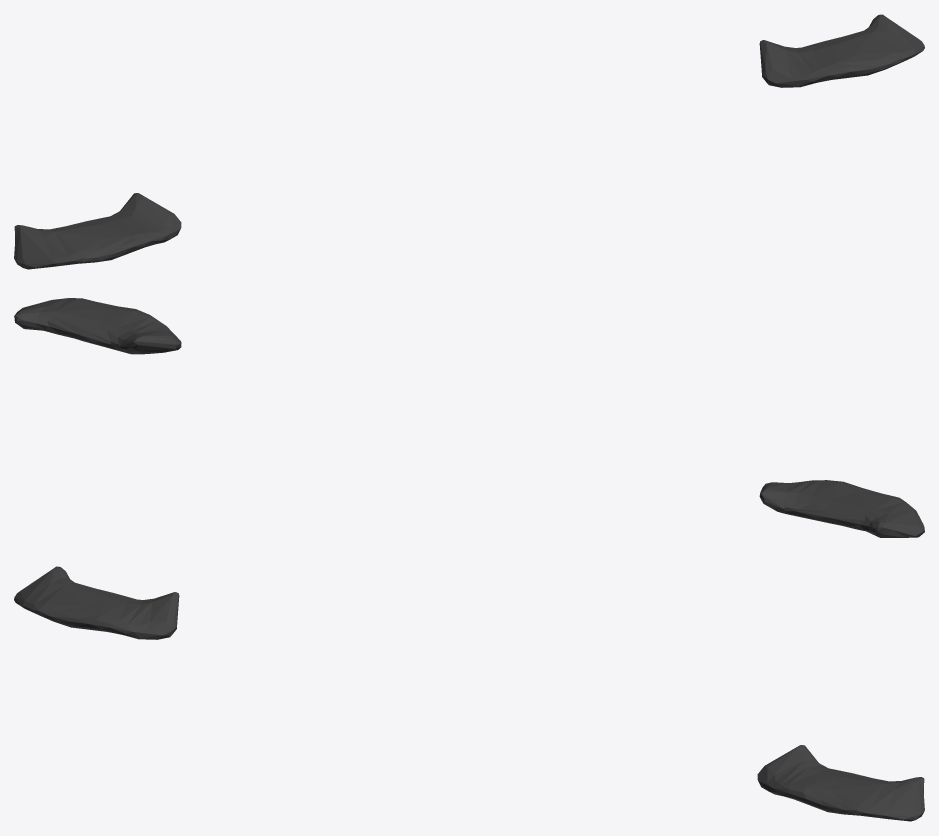
File: lig_impar_distal_sesamoidean_FL.glb
The picture shows the model from 3 angles, top to bottom: view 1: azimuth 30°, elevation 25°; view 2: azimuth 150°, elevation 25°; view 3: azimuth 330°, elevation 25°; orthographic projection.
Visible parts, largest first — view 1: lig_impar_distal_sesamoidean_FL; view 2: lig_impar_distal_sesamoidean_FL; view 3: lig_impar_distal_sesamoidean_FL.
Boxes of the visible parts, x1=… form: lig_impar_distal_sesamoidean_FL: x1=14, y1=14, x2=924, y2=269; lig_impar_distal_sesamoidean_FL: x1=14, y1=298, x2=924, y2=537; lig_impar_distal_sesamoidean_FL: x1=14, y1=566, x2=924, y2=821.
Size of the model in its own units: 0.00398 by 0.000117 by 0.000344.
1 material, 1 textured.
